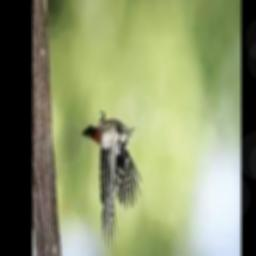Woodpecker: (82, 111, 143, 252)
